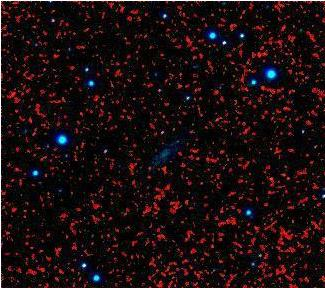star: (252, 163, 282, 193)
